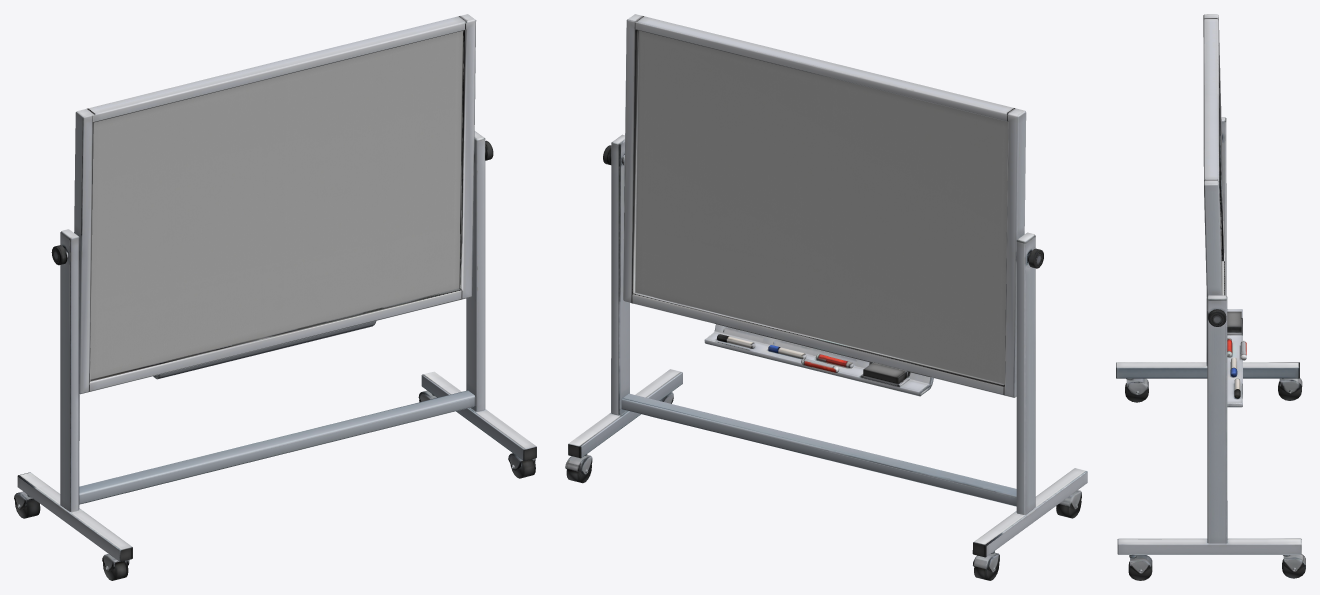
Rendered from OparetionRoom_AI_Prop.021.fbx.
3 renders of one model, left to right at view 1: azimuth 30°, elevation 25°; view 2: azimuth 150°, elevation 25°; view 3: azimuth 270°, elevation 25°, orthographic. The views are drawn at different scales.
Visible parts, largest first — view 1: OparetionRoom_AI_Prop.021; view 2: OparetionRoom_AI_Prop.021; view 3: OparetionRoom_AI_Prop.021.
Boxes of the visible parts, <box> form: OparetionRoom_AI_Prop.021: <box>14,14,536,580</box>; OparetionRoom_AI_Prop.021: <box>565,14,1087,580</box>; OparetionRoom_AI_Prop.021: <box>1116,14,1305,580</box>.
Size of the model in its own units: 259 by 248 by 110.
